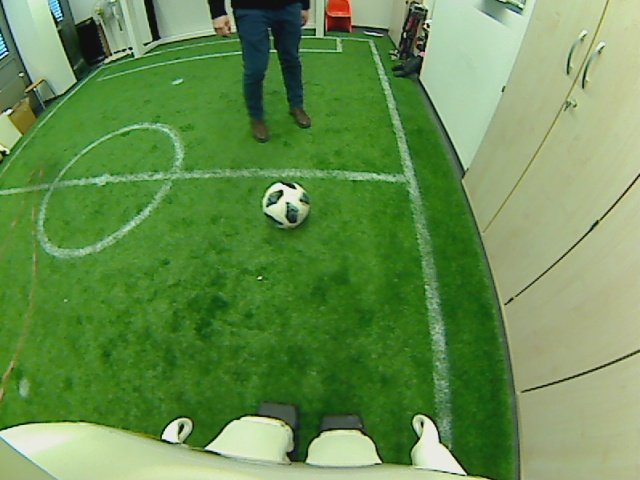ball: (260, 180, 309, 228)
